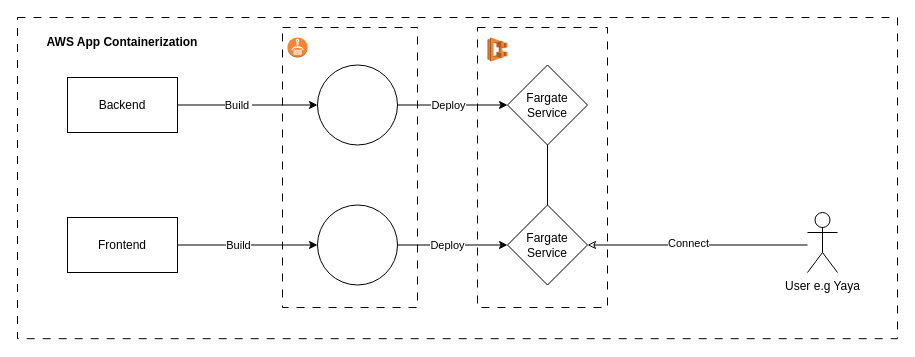
Image size: 915x357. Some labels were removed from this diagram. Here are the shapes that lost their labels. From the top down, the centre of each, then its label:
the point at 357,104: Backend Image
the point at 357,244: Frontend Image
